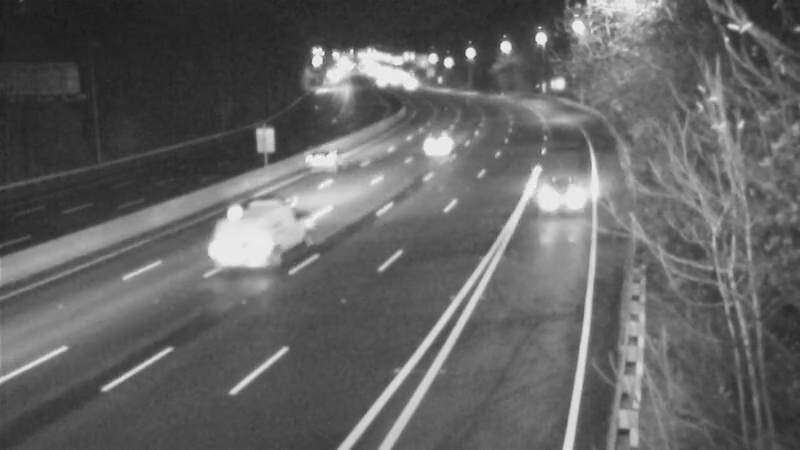vehicle: (279, 120, 359, 200), (523, 159, 603, 239), (223, 186, 303, 266), (414, 115, 464, 165)
